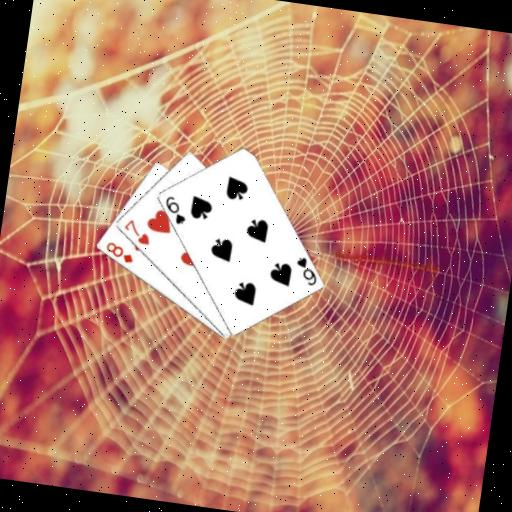6S: (159, 192, 190, 227), (290, 253, 321, 288)
7H: (119, 215, 155, 247)
8D: (101, 239, 136, 266)
